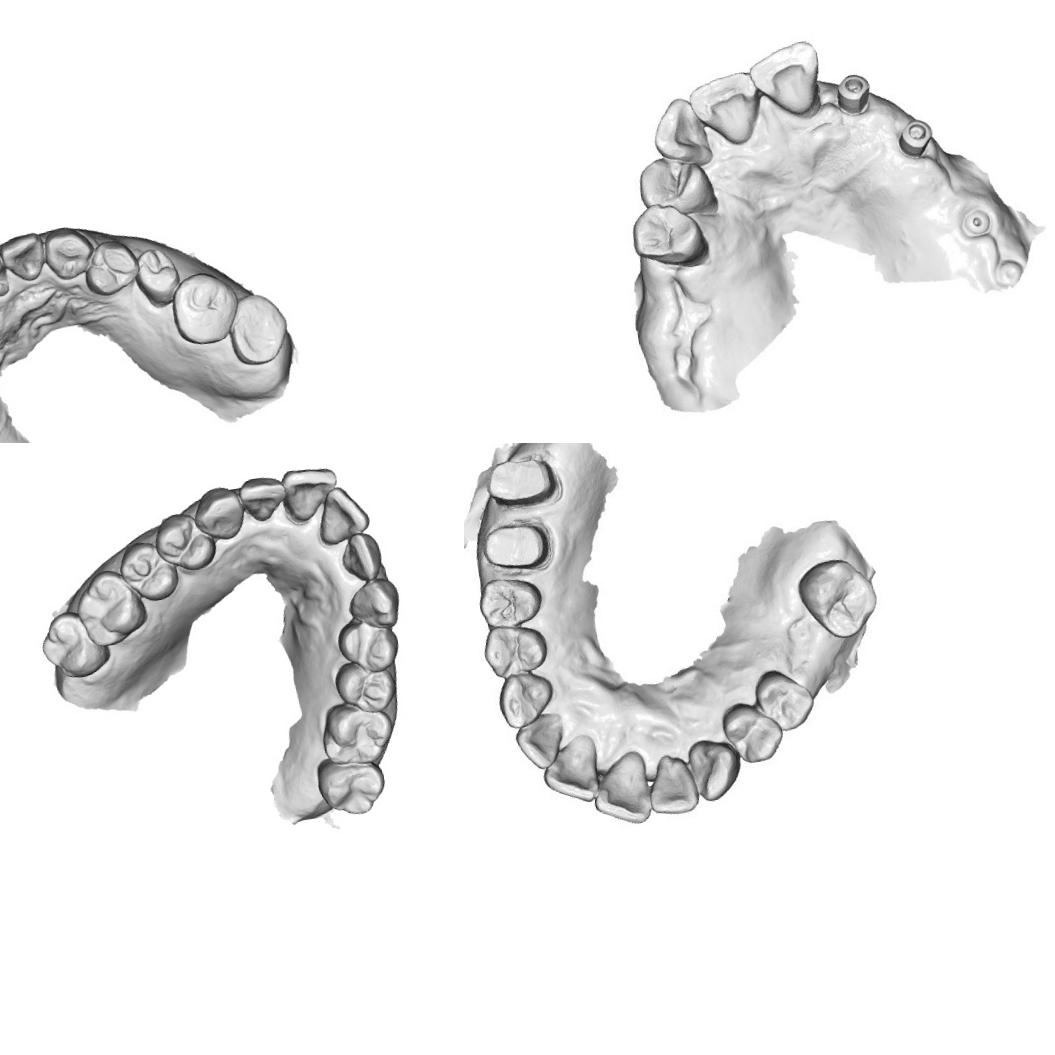canine: (647, 94, 713, 172), (490, 668, 564, 732), (685, 734, 744, 804), (189, 482, 248, 544), (40, 222, 98, 284), (344, 574, 404, 633)
crown: (480, 450, 567, 514), (479, 515, 551, 578)
implant: (831, 68, 874, 120), (896, 113, 937, 161), (958, 204, 994, 240)
incisor: (748, 38, 826, 122), (688, 68, 767, 150), (586, 750, 657, 830), (536, 734, 605, 808), (278, 461, 344, 525), (311, 482, 374, 548), (644, 754, 700, 818), (510, 711, 568, 772), (236, 472, 290, 526), (335, 529, 386, 586), (0, 230, 49, 285)
molar: (793, 548, 884, 648), (70, 564, 152, 651), (167, 266, 244, 350), (36, 604, 114, 684), (316, 695, 398, 770), (312, 747, 390, 822), (223, 288, 293, 369)
premolar: (628, 196, 711, 274), (632, 150, 722, 220), (748, 664, 818, 736), (150, 508, 220, 576), (718, 696, 783, 769), (115, 536, 182, 606), (331, 654, 401, 719), (334, 613, 404, 678), (474, 573, 548, 632), (79, 236, 144, 300), (484, 625, 549, 684), (130, 244, 185, 312)
